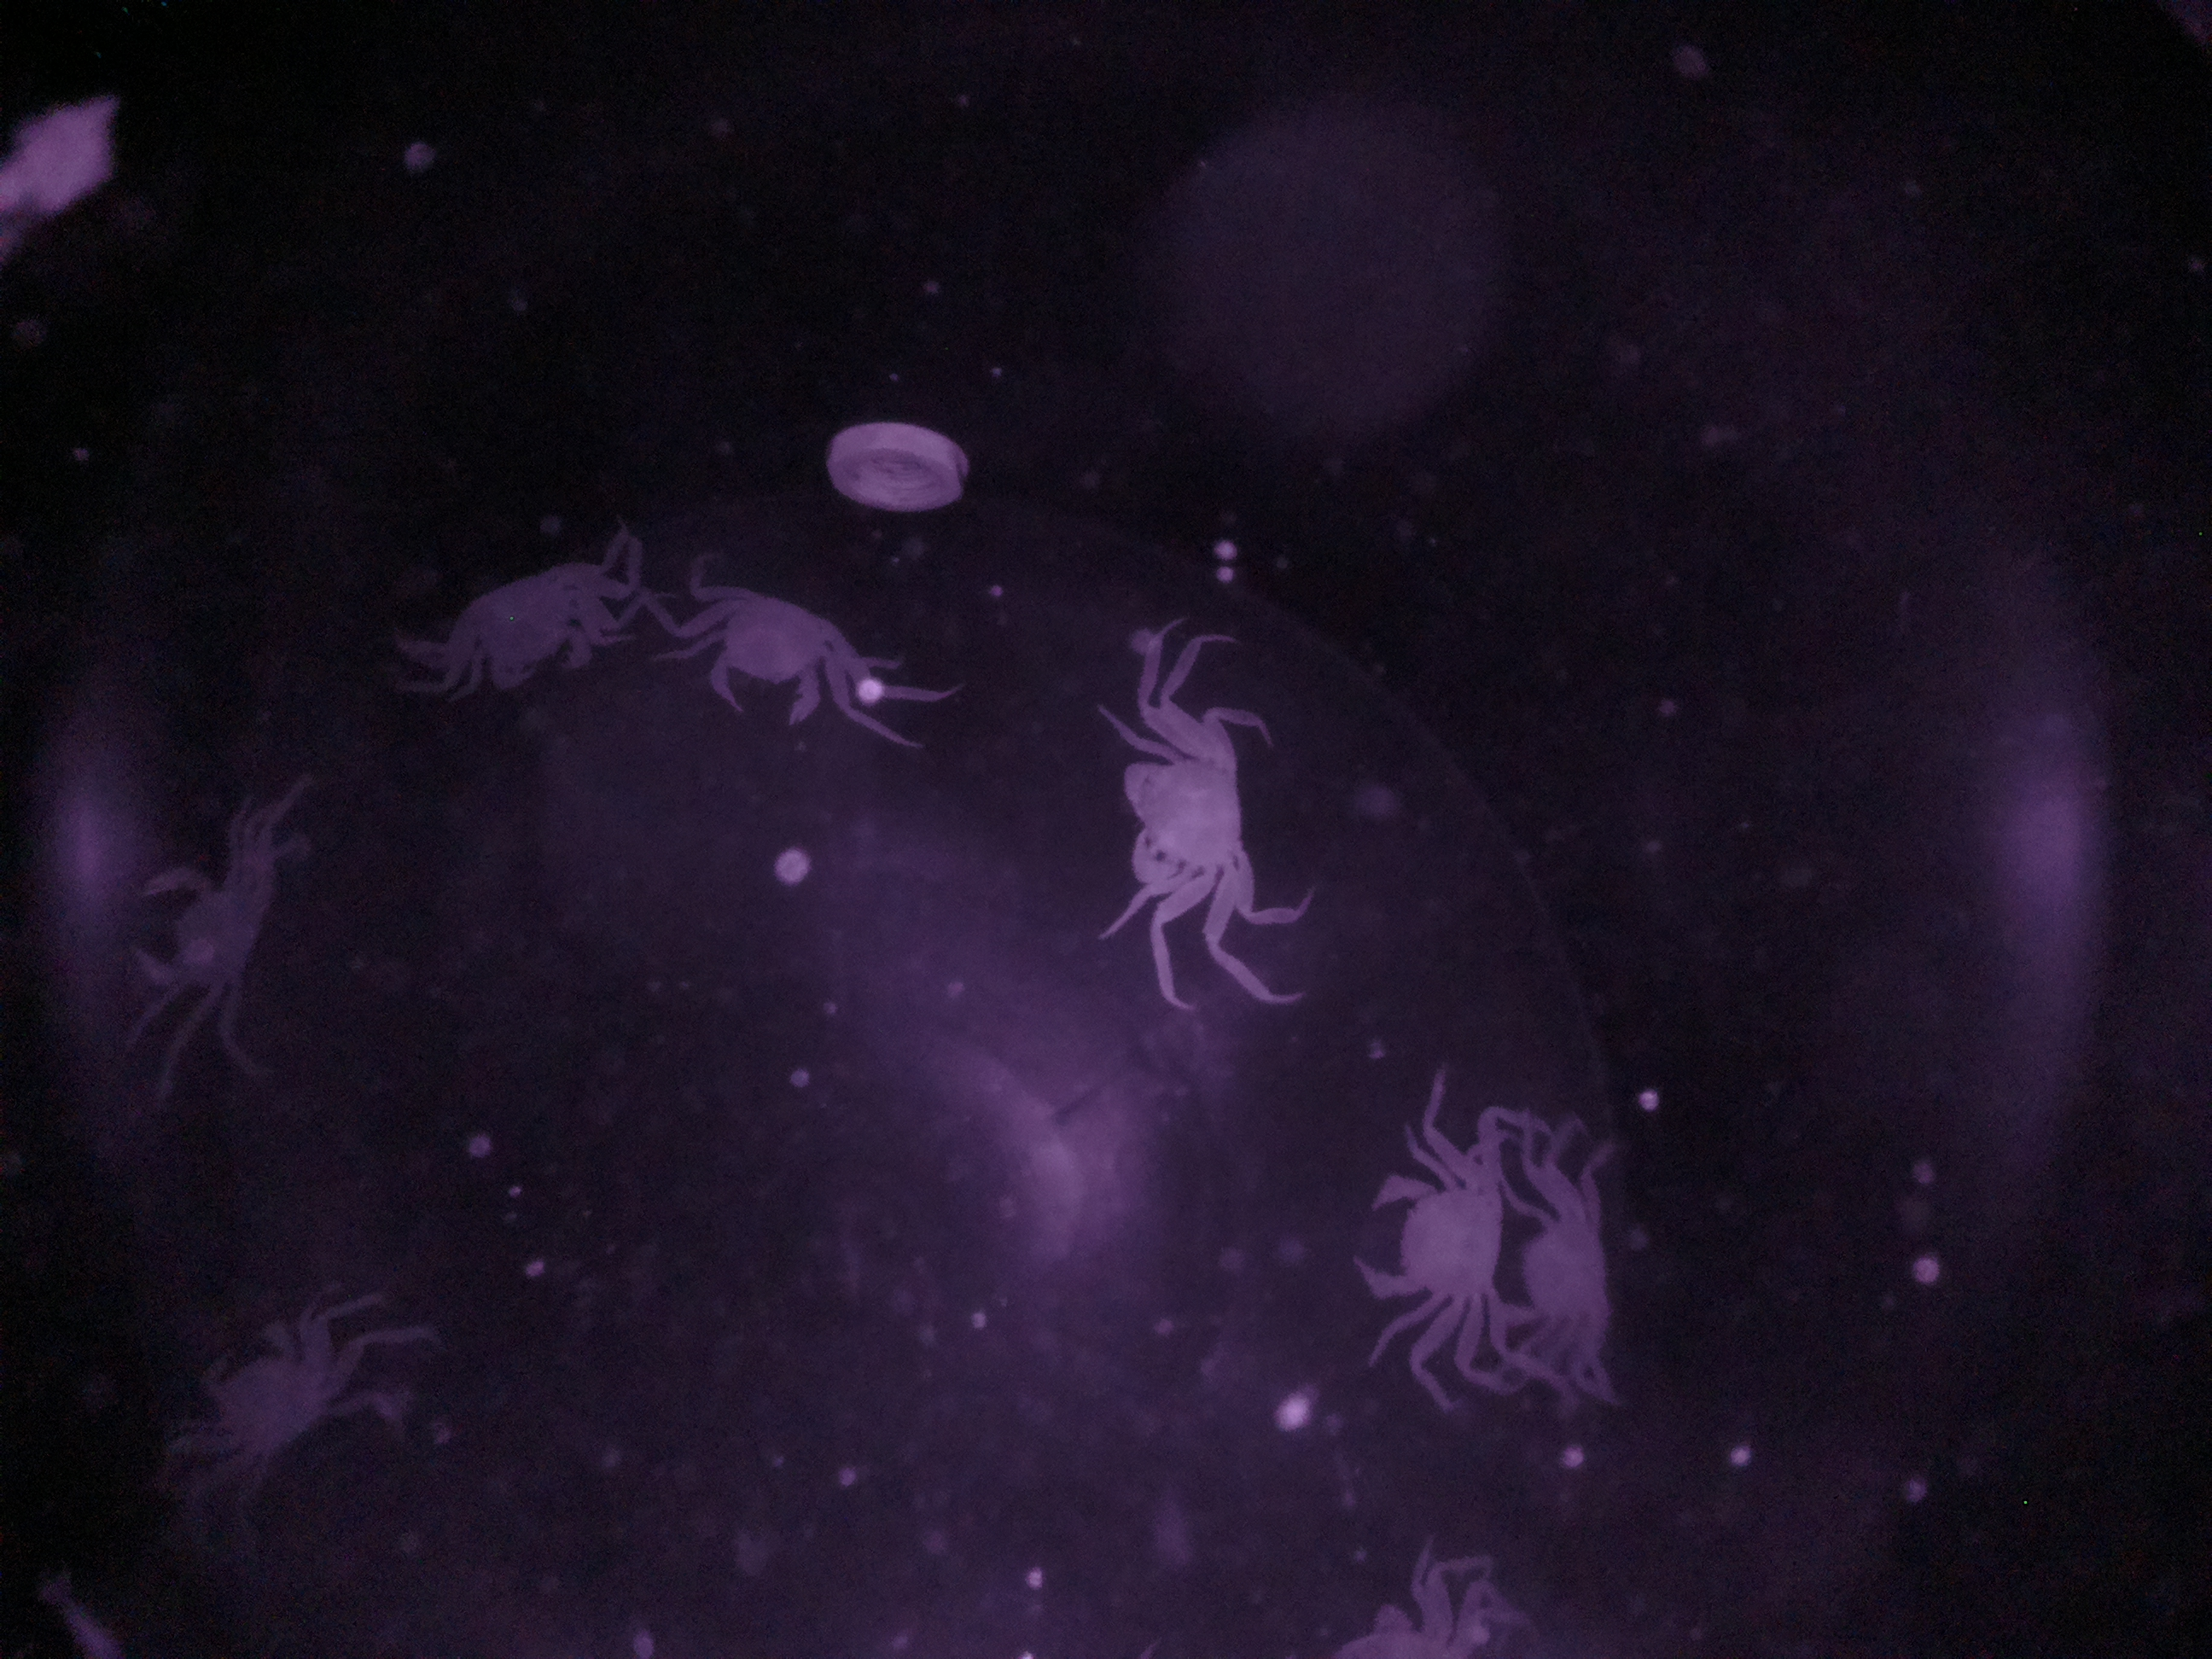Crab: (1078, 685, 1273, 967), (1345, 1079, 1521, 1380), (655, 556, 895, 741), (413, 542, 637, 695)
